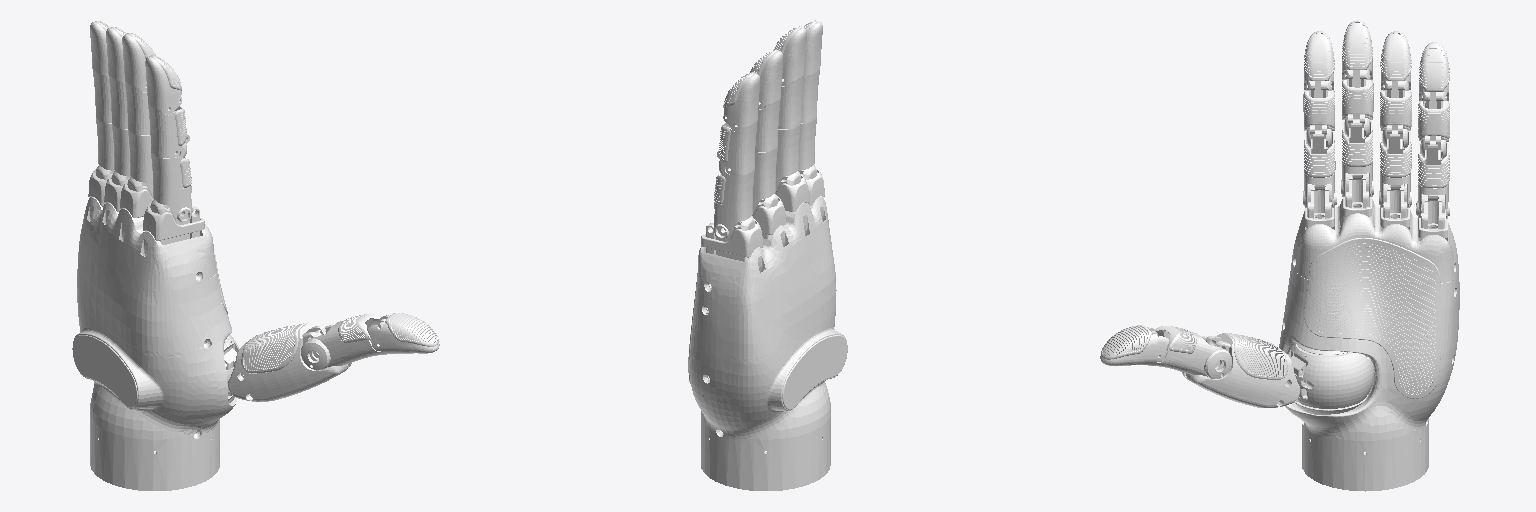
The robot description file, URDF, robot "linkerhand_l10v6_left":
<?xml version='1.0' encoding='utf-8'?>
<robot name="linkerhand_l10v6_left">
  <link name="hand_base_link">
    <inertial>
      <origin xyz="-0.00286158285153781 0.00291722319245657 0.0777013185993096" rpy="0 0 0" />
      <mass value="0.3355217742994084" />
      <inertia ixx="0.0006034278696208162" ixy="2.5945458100222196e-06" ixz="2.583441595747084e-06" iyy="0.0004288896033965287" iyz="1.1495620293769087e-05" izz="0.0002310010108567624" />
    </inertial>
    <visual>
      <origin xyz="0 0 0" rpy="0 0 0" />
      <geometry>
        <mesh filename="meshes/hand_base_link.STL" />
      </geometry>
      <material name="">
        <color rgba="1 1 1 1" />
      </material>
    </visual>
    <collision>
      <origin xyz="0 0 0" rpy="0 0 0" />
      <geometry>
        <mesh filename="meshes/hand_base_link.STL" />
      </geometry>
    </collision>
  </link>
  <link name="thumb_metacarpals_base1">
    <inertial>
      <origin xyz="0.0219046715712375 -9.48626705771921E-06 -0.00324883167123877" rpy="0 0 0" />
      <mass value="0.043216860012087376" />
      <inertia ixx="1.1574645797577225e-05" ixy="-8.984136000835386e-09" ixz="-1.1766027948925875e-06" iyy="1.6390111626656588e-05" iyz="-4.0710607121916e-09" izz="7.337029980989325e-06" />
    </inertial>
    <visual>
      <origin xyz="0 0 0" rpy="0 0 0" />
      <geometry>
        <mesh filename="meshes/thumb_metacarpals_base1.STL" />
      </geometry>
      <material name="">
        <color rgba="1 1 1 1" />
      </material>
    </visual>
    <collision>
      <origin xyz="0 0 0" rpy="0 0 0" />
      <geometry>
        <mesh filename="meshes/thumb_metacarpals_base1.STL" />
      </geometry>
    </collision>
  </link>
  <joint name="thumb_cmc_roll" type="revolute">
    <origin xyz="-0.016657 -0.018426 0.057469" rpy="0 0 0" />
    <parent link="hand_base_link" />
    <child link="thumb_metacarpals_base1" />
    <axis xyz="-1 0 0" />
    <limit lower="-0.785" upper="0.785" effort="12" velocity="2.6" />
  </joint>
  <link name="thumb_metacarpals_base2">
    <inertial>
      <origin xyz="0.000798672868012509 -0.00104864337053465 -0.00114043413265499" rpy="0 0 0" />
      <mass value="0.072754681016976" />
      <inertia ixx="1.1663371590420262e-05" ixy="-2.6262973173372636e-06" ixz="1.2971095218936713e-07" iyy="9.126098693266464e-06" iyz="-2.0838721326869587e-07" izz="1.0413442973952338e-05" />
    </inertial>
    <visual>
      <origin xyz="0 0 0" rpy="0 0 0" />
      <geometry>
        <mesh filename="meshes/thumb_metacarpals_base2.STL" />
      </geometry>
      <material name="">
        <color rgba="1 1 1 1" />
      </material>
    </visual>
    <collision>
      <origin xyz="0 0 0" rpy="0 0 0" />
      <geometry>
        <mesh filename="meshes/thumb_metacarpals_base2.STL" />
      </geometry>
    </collision>
  </link>
  <joint name="thumb_cmc_yaw" type="revolute">
    <origin xyz="0.028875 0 0.0020117" rpy="0 0 0" />
    <parent link="thumb_metacarpals_base1" />
    <child link="thumb_metacarpals_base2" />
    <axis xyz="0 0 1" />
    <limit lower="0" upper="1.57" effort="12" velocity="2.6" />
  </joint>
  <link name="thumb_metacarpals">
    <inertial>
      <origin xyz="0.00175928374897715 -2.63724449372782E-05 0.0251802708036677" rpy="0 0 0" />
      <mass value="0.06657094876365299" />
      <inertia ixx="1.1160759345219712e-05" ixy="6.584642775411337e-10" ixz="-3.3307729548558715e-07" iyy="1.5079484426430938e-05" iyz="1.92880275356271e-09" izz="6.067229952497625e-06" />
    </inertial>
    <visual>
      <origin xyz="0 0 0" rpy="0 0 0" />
      <geometry>
        <mesh filename="meshes/thumb_metacarpals.STL" />
      </geometry>
      <material name="">
        <color rgba="1 1 1 1" />
      </material>
    </visual>
    <collision>
      <origin xyz="0 0 0" rpy="0 0 0" />
      <geometry>
        <mesh filename="meshes/thumb_metacarpals.STL" />
      </geometry>
    </collision>
  </link>
  <joint name="thumb_cmc_pitch" type="revolute">
    <origin xyz="0.015415 -0.024336 -0.0034929" rpy="0 -1.1075 2.1313" />
    <parent link="thumb_metacarpals_base2" />
    <child link="thumb_metacarpals" />
    <axis xyz="0 1 0" />
    <limit lower="0" upper="0.5285" effort="12" velocity="2.6" />
  </joint>
  <link name="thumb_proximal">
    <inertial>
      <origin xyz="-0.000134514693928799 -2.62245243557585E-05 0.0155657254015052" rpy="0 0 0" />
      <mass value="0.01958692569086711" />
      <inertia ixx="3.4697725304988824e-06" ixy="-3.327267347721967e-11" ixz="-4.1853839437128e-07" iyy="3.0873336668433674e-06" iyz="1.54924719843834e-10" izz="1.5346507241899612e-06" />
    </inertial>
    <visual>
      <origin xyz="0 0 0" rpy="0 0 0" />
      <geometry>
        <mesh filename="meshes/thumb_proximal.STL" />
      </geometry>
      <material name="">
        <color rgba="1 1 1 1" />
      </material>
    </visual>
    <collision>
      <origin xyz="0 0 0" rpy="0 0 0" />
      <geometry>
        <mesh filename="meshes/thumb_proximal.STL" />
      </geometry>
    </collision>
  </link>
  <joint name="thumb_mcp" type="revolute">
    <origin xyz="0.0049422 -7E-05 0.050268" rpy="0 0 0" />
    <parent link="thumb_metacarpals" />
    <child link="thumb_proximal" />
    <axis xyz="0 1 0" />
    <limit lower="0" upper="1.186" effort="12" velocity="2.6" />
    <mimic joint="thumb_cmc_pitch" multiplier="2.24" offset="0" />
  </joint>
  <link name="thumb_distal">
    <inertial>
      <origin xyz="-0.00128288196550677 -1.13361177393814E-05 0.012129617700597" rpy="0 0 0" />
      <mass value="0.02247274403982049" />
      <inertia ixx="1.331154618825e-06" ixy="-8.455169597234325e-10" ixz="-3.851470757664075e-07" iyy="1.3814467104262874e-06" iyz="-2.0836025487603863e-10" izz="1.0508245331573625e-06" />
    </inertial>
    <visual>
      <origin xyz="0 0 0" rpy="0 0 0" />
      <geometry>
        <mesh filename="meshes/thumb_distal.STL" />
      </geometry>
      <material name="">
        <color rgba="1 1 1 1" />
      </material>
    </visual>
    <collision>
      <origin xyz="0 0 0" rpy="0 0 0" />
      <geometry>
        <mesh filename="meshes/thumb_distal.STL" />
      </geometry>
    </collision>
  </link>
  <joint name="thumb_ip" type="revolute">
    <origin xyz="-0.0040391 0 0.036444" rpy="0 0 0" />
    <parent link="thumb_proximal" />
    <child link="thumb_distal" />
    <axis xyz="0 1 0" />
    <limit lower="0" upper="1.256" effort="12" velocity="2.6" />
    <mimic joint="thumb_cmc_pitch" multiplier="2.24" offset="0" />
  </joint>
  <link name="index_metacarpals">
    <inertial>
      <origin xyz="-0.00187934702104134 -4.29029595737547E-06 0.0105055422549738" rpy="0 0 0" />
      <mass value="0.016224861657086587" />
      <inertia ixx="8.0558776707687e-07" ixy="1.8377983342295924e-09" ixz="-2.817580054008791e-08" iyy="1.2812078319531976e-06" iyz="1.69041309143604e-09" izz="1.1491271215581225e-06" />
    </inertial>
    <visual>
      <origin xyz="0 0 0" rpy="0 0 0" />
      <geometry>
        <mesh filename="meshes/index_metacarpals.STL" />
      </geometry>
      <material name="">
        <color rgba="1 1 1 1" />
      </material>
    </visual>
    <collision>
      <origin xyz="0 0 0" rpy="0 0 0" />
      <geometry>
        <mesh filename="meshes/index_metacarpals.STL" />
      </geometry>
    </collision>
  </link>
  <joint name="index_mcp_roll" type="revolute">
    <origin xyz="-0.0021544 -0.02293 0.12973" rpy="0 0 0" />
    <parent link="hand_base_link" />
    <child link="index_metacarpals" />
    <axis xyz="1 0 0" />
    <limit lower="0" upper="0.2268" effort="12" velocity="2.6" />
  </joint>
  <link name="index_proximal">
    <inertial>
      <origin xyz="-0.00325185842631416 -9.13142378328041E-05 0.019519432098178" rpy="0 0 0" />
      <mass value="0.011434388445128849" />
      <inertia ixx="1.0145832356510137e-06" ixy="-1.2541097740821187e-09" ixz="-1.4945477444594324e-07" iyy="9.802611013521527e-07" iyz="-5.5655019976331626e-09" izz="5.3706714356802e-07" />
    </inertial>
    <visual>
      <origin xyz="0 0 0" rpy="0 0 0" />
      <geometry>
        <mesh filename="meshes/index_proximal.STL" />
      </geometry>
      <material name="">
        <color rgba="1 1 1 1" />
      </material>
    </visual>
    <collision>
      <origin xyz="0 0 0" rpy="0 0 0" />
      <geometry>
        <mesh filename="meshes/index_proximal.STL" />
      </geometry>
    </collision>
  </link>
  <joint name="index_mcp_pitch" type="revolute">
    <origin xyz="0.0010315 -3.0579E-05 0.017575" rpy="0 0 0" />
    <parent link="index_metacarpals" />
    <child link="index_proximal" />
    <axis xyz="0 1 0.0017399" />
    <limit lower="0" upper="1.325" effort="12" velocity="2.6" />
  </joint>
  <link name="index_middle">
    <inertial>
      <origin xyz="-0.0022016660809888 0.000323491615300016 0.0115249841516604" rpy="0 0 0" />
      <mass value="0.012218483381070486" />
      <inertia ixx="1.0683874793410237e-06" ixy="7.461942934849201e-09" ixz="-1.6732585065956776e-07" iyy="9.760136772745162e-07" iyz="-1.8556885538097564e-08" izz="4.997142729361838e-07" />
    </inertial>
    <visual>
      <origin xyz="0 0 0" rpy="0 0 0" />
      <geometry>
        <mesh filename="meshes/index_middle.STL" />
      </geometry>
      <material name="">
        <color rgba="1 1 1 1" />
      </material>
    </visual>
    <collision>
      <origin xyz="0 0 0" rpy="0 0 0" />
      <geometry>
        <mesh filename="meshes/index_middle.STL" />
      </geometry>
    </collision>
  </link>
  <joint name="index_pip" type="revolute">
    <origin xyz="-0.0033727 -5.8304E-05 0.033509" rpy="0 0 0" />
    <parent link="index_proximal" />
    <child link="index_middle" />
    <axis xyz="0 1 0.0017399" />
    <limit lower="0" upper="1.57" effort="12" velocity="2.6" />
    <mimic joint="index_mcp_pitch" multiplier="1.18" offset="0" />
  </joint>
  <link name="index_distal">
    <inertial>
      <origin xyz="0.000205178160330333 2.97745761116885E-05 0.0116641281851965" rpy="0 0 0" />
      <mass value="0.014509336799106001" />
      <inertia ixx="7.991034257248725e-07" ixy="1.9464314592614288e-09" ixz="-1.6209871504956675e-07" iyy="7.765077151425788e-07" iyz="-1.1850354848977276e-08" izz="4.5115066690793625e-07" />
    </inertial>
    <visual>
      <origin xyz="0 0 0" rpy="0 0 0" />
      <geometry>
        <mesh filename="meshes/index_distal.STL" />
      </geometry>
      <material name="">
        <color rgba="1 1 1 1" />
      </material>
    </visual>
    <collision>
      <origin xyz="0 0 0" rpy="0 0 0" />
      <geometry>
        <mesh filename="meshes/index_distal.STL" />
      </geometry>
    </collision>
  </link>
  <joint name="index_dip" type="revolute">
    <origin xyz="-0.0050438 -4.4805E-05 0.025751" rpy="0 0 0" />
    <parent link="index_middle" />
    <child link="index_distal" />
    <axis xyz="0 1 0.0017399" />
    <limit lower="0" upper="1" effort="12" velocity="2.6" />
    <mimic joint="index_mcp_pitch" multiplier="0.7493" offset="0" />
  </joint>
  <link name="middle_proximal">
    <inertial>
      <origin xyz="-0.00325186288011926 -5.73454604718832E-05 0.0195195889004557" rpy="0 0 0" />
      <mass value="0.01143437156151015" />
      <inertia ixx="1.0145776920273975e-06" ixy="-1.51391940486027e-09" ixz="-1.4945172673068563e-07" iyy="9.802739948415826e-07" iyz="-4.79580838155705e-09" izz="5.370488365697888e-07" />
    </inertial>
    <visual>
      <origin xyz="0 0 0" rpy="0 0 0" />
      <geometry>
        <mesh filename="meshes/middle_proximal.STL" />
      </geometry>
      <material name="">
        <color rgba="1 1 1 1" />
      </material>
    </visual>
    <collision>
      <origin xyz="0 0 0" rpy="0 0 0" />
      <geometry>
        <mesh filename="meshes/middle_proximal.STL" />
      </geometry>
    </collision>
  </link>
  <joint name="middle_mcp_pitch" type="revolute">
    <origin xyz="-0.0031229 -0.0039297 0.1523" rpy="0 0 0" />
    <parent link="hand_base_link" />
    <child link="middle_proximal" />
    <axis xyz="0 1 0" />
    <limit lower="0" upper="1.325" effort="12" velocity="2.6" />
  </joint>
  <link name="middle_middle">
    <inertial>
      <origin xyz="-0.00220166609150478 0.000343543558963093 0.0115244040473821" rpy="0 0 0" />
      <mass value="0.012218483571112725" />
      <inertia ixx="1.068387495358361e-06" ixy="7.170795464411775e-09" ixz="-1.6733858218132874e-07" iyy="9.760768097219475e-07" iyz="-1.7728053600423598e-08" izz="4.996511408980763e-07" />
    </inertial>
    <visual>
      <origin xyz="0 0 0" rpy="0 0 0" />
      <geometry>
        <mesh filename="meshes/middle_middle.STL" />
      </geometry>
      <material name="">
        <color rgba="1 1 1 1" />
      </material>
    </visual>
    <collision>
      <origin xyz="0 0 0" rpy="0 0 0" />
      <geometry>
        <mesh filename="meshes/middle_middle.STL" />
      </geometry>
    </collision>
  </link>
  <joint name="middle_pip" type="revolute">
    <origin xyz="-0.0033727 0 0.03351" rpy="0 0 0" />
    <parent link="middle_proximal" />
    <child link="middle_middle" />
    <axis xyz="0 1 0" />
    <limit lower="0" upper="1.57" effort="12" velocity="2.6" />
    <mimic joint="middle_mcp_pitch" multiplier="1.18" offset="0" />
  </joint>
  <link name="middle_distal">
    <inertial>
      <origin xyz="0.000205178002779471 5.00684870747489E-05 0.0116640595818044" rpy="0 0 0" />
      <mass value="0.014509336060454212" />
      <inertia ixx="7.99103494186095e-07" ixy="1.6644075854798023e-09" ixz="-1.62101880036297e-07" iyy="7.765480201542825e-07" iyz="-1.1284283654957438e-08" izz="4.511104435724625e-07" />
    </inertial>
    <visual>
      <origin xyz="0 0 0" rpy="0 0 0" />
      <geometry>
        <mesh filename="meshes/middle_distal.STL" />
      </geometry>
      <material name="">
        <color rgba="1 1 1 1" />
      </material>
    </visual>
    <collision>
      <origin xyz="0 0 0" rpy="0 0 0" />
      <geometry>
        <mesh filename="meshes/middle_distal.STL" />
      </geometry>
    </collision>
  </link>
  <joint name="middle_dip" type="revolute">
    <origin xyz="-0.0050438 0 0.025752" rpy="0 0 0" />
    <parent link="middle_middle" />
    <child link="middle_distal" />
    <axis xyz="0 1 0" />
    <limit lower="0" upper="1" effort="12" velocity="2.6" />
    <mimic joint="middle_mcp_pitch" multiplier="0.7493" offset="0" />
  </joint>
  <link name="ring_metacarpals">
    <inertial>
      <origin xyz="-0.00187934628453409 6.28915481682354E-05 0.01050535483118" rpy="0 0 0" />
      <mass value="0.016224861826704375" />
      <inertia ixx="8.0558777445087e-07" ixy="1.6576144109981775e-09" ixz="-2.818699813825459e-08" iyy="1.2811809055950375e-06" iyz="2.5348853775173285e-09" izz="1.149154228484606e-06" />
    </inertial>
    <visual>
      <origin xyz="0 0 0" rpy="0 0 0" />
      <geometry>
        <mesh filename="meshes/ring_metacarpals.STL" />
      </geometry>
      <material name="">
        <color rgba="1 1 1 1" />
      </material>
    </visual>
    <collision>
      <origin xyz="0 0 0" rpy="0 0 0" />
      <geometry>
        <mesh filename="meshes/ring_metacarpals.STL" />
      </geometry>
    </collision>
  </link>
  <joint name="ring_mcp_roll" type="revolute">
    <origin xyz="-0.0021544 0.01507 0.12973" rpy="0 0 0" />
    <parent link="hand_base_link" />
    <child link="ring_metacarpals" />
    <axis xyz="1 0 0" />
    <limit lower="-0.2093" upper="0" effort="12" velocity="2.6" />
  </joint>
  <link name="ring_proximal">
    <inertial>
      <origin xyz="-0.00325187412247893 3.35367654908103E-05 0.0195197185420488" rpy="0 0 0" />
      <mass value="0.011434328218145325" />
      <inertia ixx="1.0145627036440988e-06" ixy="-2.208986407970441e-09" ixz="-1.4944134457087498e-07" iyy="9.802951610013824e-07" iyz="-2.7363971232884886e-09" izz="5.370130646189587e-07" />
    </inertial>
    <visual>
      <origin xyz="0 0 0" rpy="0 0 0" />
      <geometry>
        <mesh filename="meshes/ring_proximal.STL" />
      </geometry>
      <material name="">
        <color rgba="1 1 1 1" />
      </material>
    </visual>
    <collision>
      <origin xyz="0 0 0" rpy="0 0 0" />
      <geometry>
        <mesh filename="meshes/ring_proximal.STL" />
      </geometry>
    </collision>
  </link>
  <joint name="ring_mcp_pitch" type="revolute">
    <origin xyz="0.0010315 8.1812E-05 0.017575" rpy="0 0 0" />
    <parent link="ring_metacarpals" />
    <child link="ring_proximal" />
    <axis xyz="0 0.99999 0.004655" />
    <limit lower="0" upper="1.325" effort="12" velocity="2.6" />
  </joint>
  <link name="ring_middle">
    <inertial>
      <origin xyz="-0.00220166566802396 0.0003971864509561 0.0115226809862077" rpy="0 0 0" />
      <mass value="0.012218485156099463" />
      <inertia ixx="1.0683875734537313e-06" ixy="6.3917456478722626e-09" ixz="-1.6737017512398825e-07" iyy="9.76231589018535e-07" iyz="-1.550953559747006e-08" izz="4.994964896570513e-07" />
    </inertial>
    <visual>
      <origin xyz="0 0 0" rpy="0 0 0" />
      <geometry>
        <mesh filename="meshes/ring_middle.STL" />
      </geometry>
      <material name="">
        <color rgba="1 1 1 1" />
      </material>
    </visual>
    <collision>
      <origin xyz="0 0 0" rpy="0 0 0" />
      <geometry>
        <mesh filename="meshes/ring_middle.STL" />
      </geometry>
    </collision>
  </link>
  <joint name="ring_pip" type="revolute">
    <origin xyz="-0.0033727 0.00015599 0.033509" rpy="0 0 0" />
    <parent link="ring_proximal" />
    <child link="ring_middle" />
    <axis xyz="0 0.99999 -0.004655" />
    <limit lower="0" upper="1.57" effort="12" velocity="2.6" />
    <mimic joint="ring_mcp_pitch" multiplier="1.18" offset="0" />
  </joint>
  <link name="ring_distal">
    <inertial>
      <origin xyz="0.00020517760398206 0.000104362588540907 0.0116637013134471" rpy="0 0 0" />
      <mass value="0.014509335448655588" />
      <inertia ixx="7.991035897706663e-07" ixy="9.099023825169151e-10" ixz="-1.6210769709474564e-07" iyy="7.766461271067113e-07" iyz="-9.769082387474625e-09" izz="4.5101234324468245e-07" />
    </inertial>
    <visual>
      <origin xyz="0 0 0" rpy="0 0 0" />
      <geometry>
        <mesh filename="meshes/ring_distal.STL" />
      </geometry>
      <material name="">
        <color rgba="1 1 1 1" />
      </material>
    </visual>
    <collision>
      <origin xyz="0 0 0" rpy="0 0 0" />
      <geometry>
        <mesh filename="meshes/ring_distal.STL" />
      </geometry>
    </collision>
  </link>
  <joint name="ring_dip" type="revolute">
    <origin xyz="-0.0050438 0.00011987 0.025751" rpy="0 0 0" />
    <parent link="ring_middle" />
    <child link="ring_distal" />
    <axis xyz="0 0.99999 0.004655" />
    <limit lower="0" upper="1" effort="12" velocity="2.6" />
    <mimic joint="ring_mcp_pitch" multiplier="0.7493" offset="0" />
  </joint>
  <link name="pinky_metacarpals">
    <inertial>
      <origin xyz="-0.00187934584633366 9.14587641305045E-05 0.0105051449327144" rpy="0 0 0" />
      <mass value="0.01622486185826846" />
      <inertia ixx="8.055877760354588e-07" ixy="1.580978999260455e-09" ixz="-2.8191413006936475e-08" iyy="1.2811661928912075e-06" iyz="2.8938639760594312e-09" izz="1.1491690360812113e-06" />
    </inertial>
    <visual>
      <origin xyz="0 0 0" rpy="0 0 0" />
      <geometry>
        <mesh filename="meshes/pinky_metacarpals.STL" />
      </geometry>
      <material name="">
        <color rgba="1 1 1 1" />
      </material>
    </visual>
    <collision>
      <origin xyz="0 0 0" rpy="0 0 0" />
      <geometry>
        <mesh filename="meshes/pinky_metacarpals.STL" />
      </geometry>
    </collision>
  </link>
  <joint name="pinky_mcp_roll" type="revolute">
    <origin xyz="-0.00015438 0.03407 0.12473" rpy="0 0 0" />
    <parent link="hand_base_link" />
    <child link="pinky_metacarpals" />
    <axis xyz="1 0 0" />
    <limit lower="-0.3663" upper="0" effort="12" velocity="2.6" />
  </joint>
  <link name="pinky_proximal">
    <inertial>
      <origin xyz="-0.00325188069079595 8.66277107426164E-05 0.0195195983618728" rpy="0 0 0" />
      <mass value="0.011434302908387288" />
      <inertia ixx="1.0145539577295488e-06" ixy="-2.6149926159884515e-09" ixz="-1.494337859823311e-07" iyy="9.802986867926886e-07" iyz="-1.5332940100896112e-09" izz="5.370010166208637e-07" />
    </inertial>
    <visual>
      <origin xyz="0 0 0" rpy="0 0 0" />
      <geometry>
        <mesh filename="meshes/pinky_proximal.STL" />
      </geometry>
      <material name="">
        <color rgba="1 1 1 1" />
      </material>
    </visual>
    <collision>
      <origin xyz="0 0 0" rpy="0 0 0" />
      <geometry>
        <mesh filename="meshes/pinky_proximal.STL" />
      </geometry>
    </collision>
  </link>
  <joint name="pinky_mcp_pitch" type="revolute">
    <origin xyz="0.0010315 0.0001296 0.017575" rpy="0 0 0" />
    <parent link="pinky_metacarpals" />
    <child link="pinky_proximal" />
    <axis xyz="0 0.99997 0.0073743" />
    <limit lower="0" upper="1.325" effort="12" velocity="2.6" />
  </joint>
  <link name="pinky_middle">
    <inertial>
      <origin xyz="-0.00220166565850555 0.000428518931293857 0.0115215583189701" rpy="0 0 0" />
      <mass value="0.012218485199683349" />
      <inertia ixx="1.0683875758478289e-06" ixy="5.9365875265233376e-09" ixz="-1.6738693800481951e-07" iyy="9.763124152716262e-07" iyz="-1.4212912019423661e-08" izz="4.994156657049562e-07" />
    </inertial>
    <visual>
      <origin xyz="0 0 0" rpy="0 0 0" />
      <geometry>
        <mesh filename="meshes/pinky_middle.STL" />
      </geometry>
      <material name="">
        <color rgba="1 1 1 1" />
      </material>
    </visual>
    <collision>
      <origin xyz="0 0 0" rpy="0 0 0" />
      <geometry>
        <mesh filename="meshes/pinky_middle.STL" />
      </geometry>
    </collision>
  </link>
  <joint name="pinky_pip" type="revolute">
    <origin xyz="-0.0033727 0.00024711 0.033509" rpy="0 0 0" />
    <parent link="pinky_proximal" />
    <child link="pinky_middle" />
    <axis xyz="0 0.99997 -0.0073743" />
    <limit lower="0" upper="1.57" effort="12" velocity="2.6" />
    <mimic joint="pinky_mcp_pitch" multiplier="1.18" offset="0" />
  </joint>
  <link name="pinky_distal">
    <inertial>
      <origin xyz="0.00020517666108498 0.00013607814642172 0.0116633786905161" rpy="0 0 0" />
      <mass value="0.014509341713357138" />
      <inertia ixx="7.991040144036225e-07" ixy="4.6910343585054e-10" ixz="-1.6210978417854824e-07" iyy="7.766972783161012e-07" iyz="-8.883595821726824e-09" izz="4.5096160321433253e-07" />
    </inertial>
    <visual>
      <origin xyz="0 0 0" rpy="0 0 0" />
      <geometry>
        <mesh filename="meshes/pinky_distal.STL" />
      </geometry>
      <material name="">
        <color rgba="1 1 1 1" />
      </material>
    </visual>
    <collision>
      <origin xyz="0 0 0" rpy="0 0 0" />
      <geometry>
        <mesh filename="meshes/pinky_distal.STL" />
      </geometry>
    </collision>
  </link>
  <joint name="pinky_dip" type="revolute">
    <origin xyz="-0.0050438 0.0001899 0.025751" rpy="0 0 0" />
    <parent link="pinky_middle" />
    <child link="pinky_distal" />
    <axis xyz="0 0.99997 0.0073743" />
    <limit lower="0" upper="1" effort="12" velocity="2.6" />
    <mimic joint="pinky_mcp_pitch" multiplier="0.7493" offset="0" />
  </joint>
</robot>

--- Facts derived from the render (not from the file) ---
Views: 3 orthographic renders of the robot side by side, from view 1: azimuth 30°, elevation 25°; view 2: azimuth 150°, elevation 25°; view 3: azimuth 270°, elevation 25°.
Model linkerhand_l10v6_left with 21 links and 20 joints (20 revolute), rooted at hand_base_link, posed every joint at zero.
Links seen in each view (by area): view 1: hand_base_link, thumb_metacarpals, thumb_proximal, thumb_distal, index_proximal, index_middle, index_metacarpals, index_distal, middle_distal, middle_proximal, middle_middle, ring_distal (+7 smaller); view 2: hand_base_link, pinky_proximal, pinky_middle, pinky_metacarpals, pinky_distal, middle_distal, ring_distal, middle_proximal, ring_proximal, middle_middle, ring_middle, ring_metacarpals (+4 smaller); view 3: hand_base_link, thumb_metacarpals, thumb_metacarpals_base2, thumb_proximal, thumb_distal, index_proximal, pinky_proximal, ring_proximal, middle_proximal, middle_distal, ring_distal, index_distal (+9 smaller).
Link boxes in pixels (box(x1,y1,x2,y2)): hand_base_link: box(72, 177, 236, 490); thumb_metacarpals: box(228, 323, 351, 401); thumb_proximal: box(301, 314, 386, 370); thumb_distal: box(367, 313, 439, 353); index_proximal: box(151, 153, 191, 223); index_middle: box(148, 104, 189, 157); index_metacarpals: box(143, 200, 204, 244); index_distal: box(145, 55, 181, 114); middle_distal: box(122, 33, 155, 92); middle_proximal: box(128, 130, 153, 198); middle_middle: box(125, 81, 149, 135); ring_distal: box(106, 27, 126, 83); hand_base_link: box(688, 171, 847, 490); pinky_proximal: box(714, 169, 754, 240); pinky_middle: box(717, 120, 757, 174); pinky_metacarpals: box(701, 216, 762, 261); pinky_distal: box(723, 72, 759, 131); middle_distal: box(773, 26, 806, 85); ring_distal: box(750, 49, 782, 108); middle_proximal: box(775, 124, 800, 192); ring_proximal: box(752, 146, 777, 215); middle_middle: box(778, 75, 803, 129); ring_middle: box(755, 98, 780, 151); ring_metacarpals: box(753, 194, 785, 238); hand_base_link: box(1279, 173, 1459, 491); thumb_metacarpals: box(1182, 333, 1299, 407); thumb_metacarpals_base2: box(1287, 344, 1373, 408); thumb_proximal: box(1152, 326, 1231, 378); thumb_distal: box(1100, 325, 1168, 365); index_proximal: box(1303, 130, 1336, 207); pinky_proximal: box(1416, 140, 1449, 218); ring_proximal: box(1379, 130, 1411, 207); middle_proximal: box(1341, 119, 1373, 196); middle_distal: box(1342, 20, 1372, 79); ring_distal: box(1380, 31, 1411, 90); index_distal: box(1304, 31, 1334, 90).
Bounding box of the posed robot: 0.119 × 0.1806 × 0.238 m (x, y, z).
Meshes: 21 distinct files referenced, 21 mesh visuals loaded (21 binary STL).
